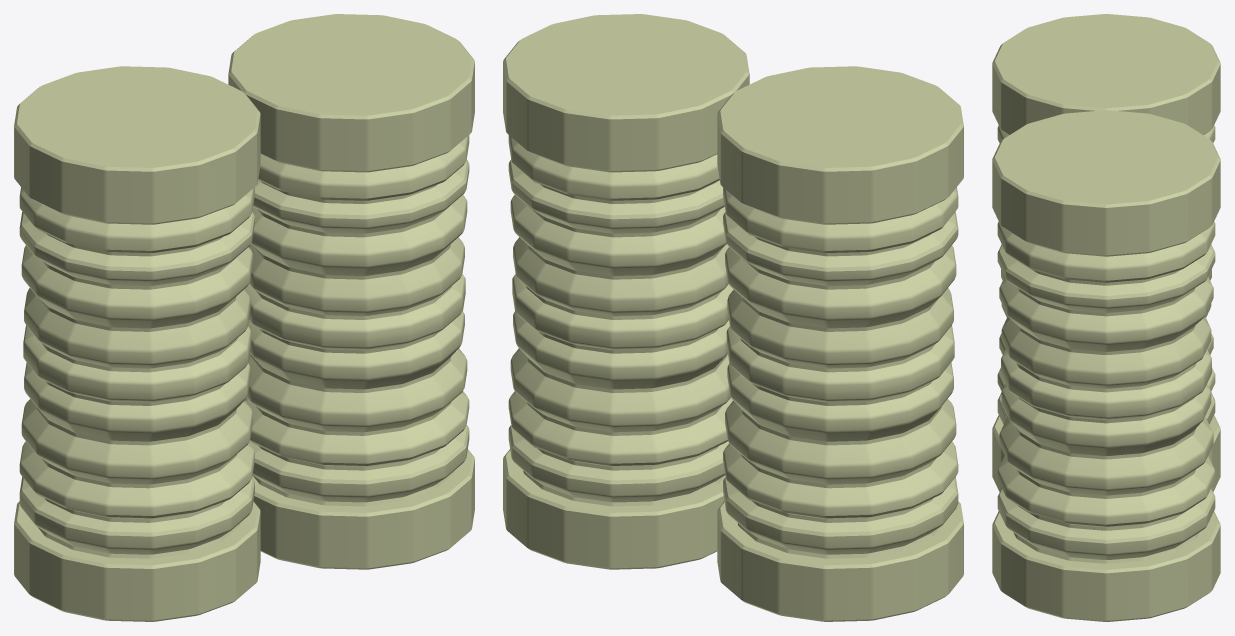
Rendered from Battery_Coils.fbx.
The picture shows the model from 3 angles, left to right: view 1: azimuth 30°, elevation 25°; view 2: azimuth 150°, elevation 25°; view 3: azimuth 270°, elevation 25°; orthographic projection. The views are drawn at different scales.
Parts seen in each view (by area): view 1: pCylinder4; view 2: pCylinder4; view 3: pCylinder4.
Boxes of the visible parts, box(x1,y1,x2,y2) form: pCylinder4: box(14, 14, 474, 621); pCylinder4: box(503, 14, 963, 621); pCylinder4: box(992, 14, 1220, 621).
Bounding box in the file's own units: 1.51 × 1.53 × 0.7565.
